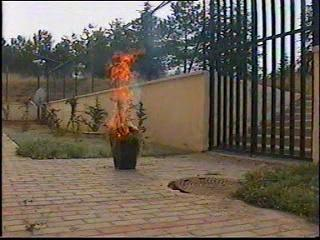fire: (108, 51, 136, 98)
